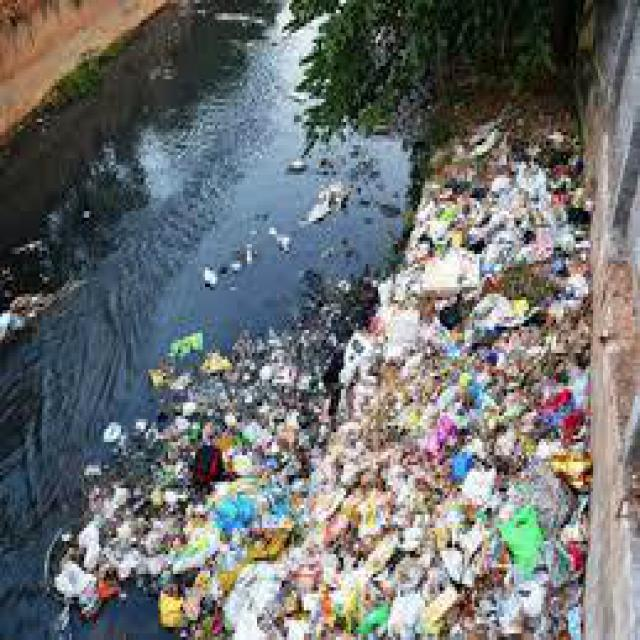garbage: (106, 343, 625, 637), (388, 132, 620, 360)
